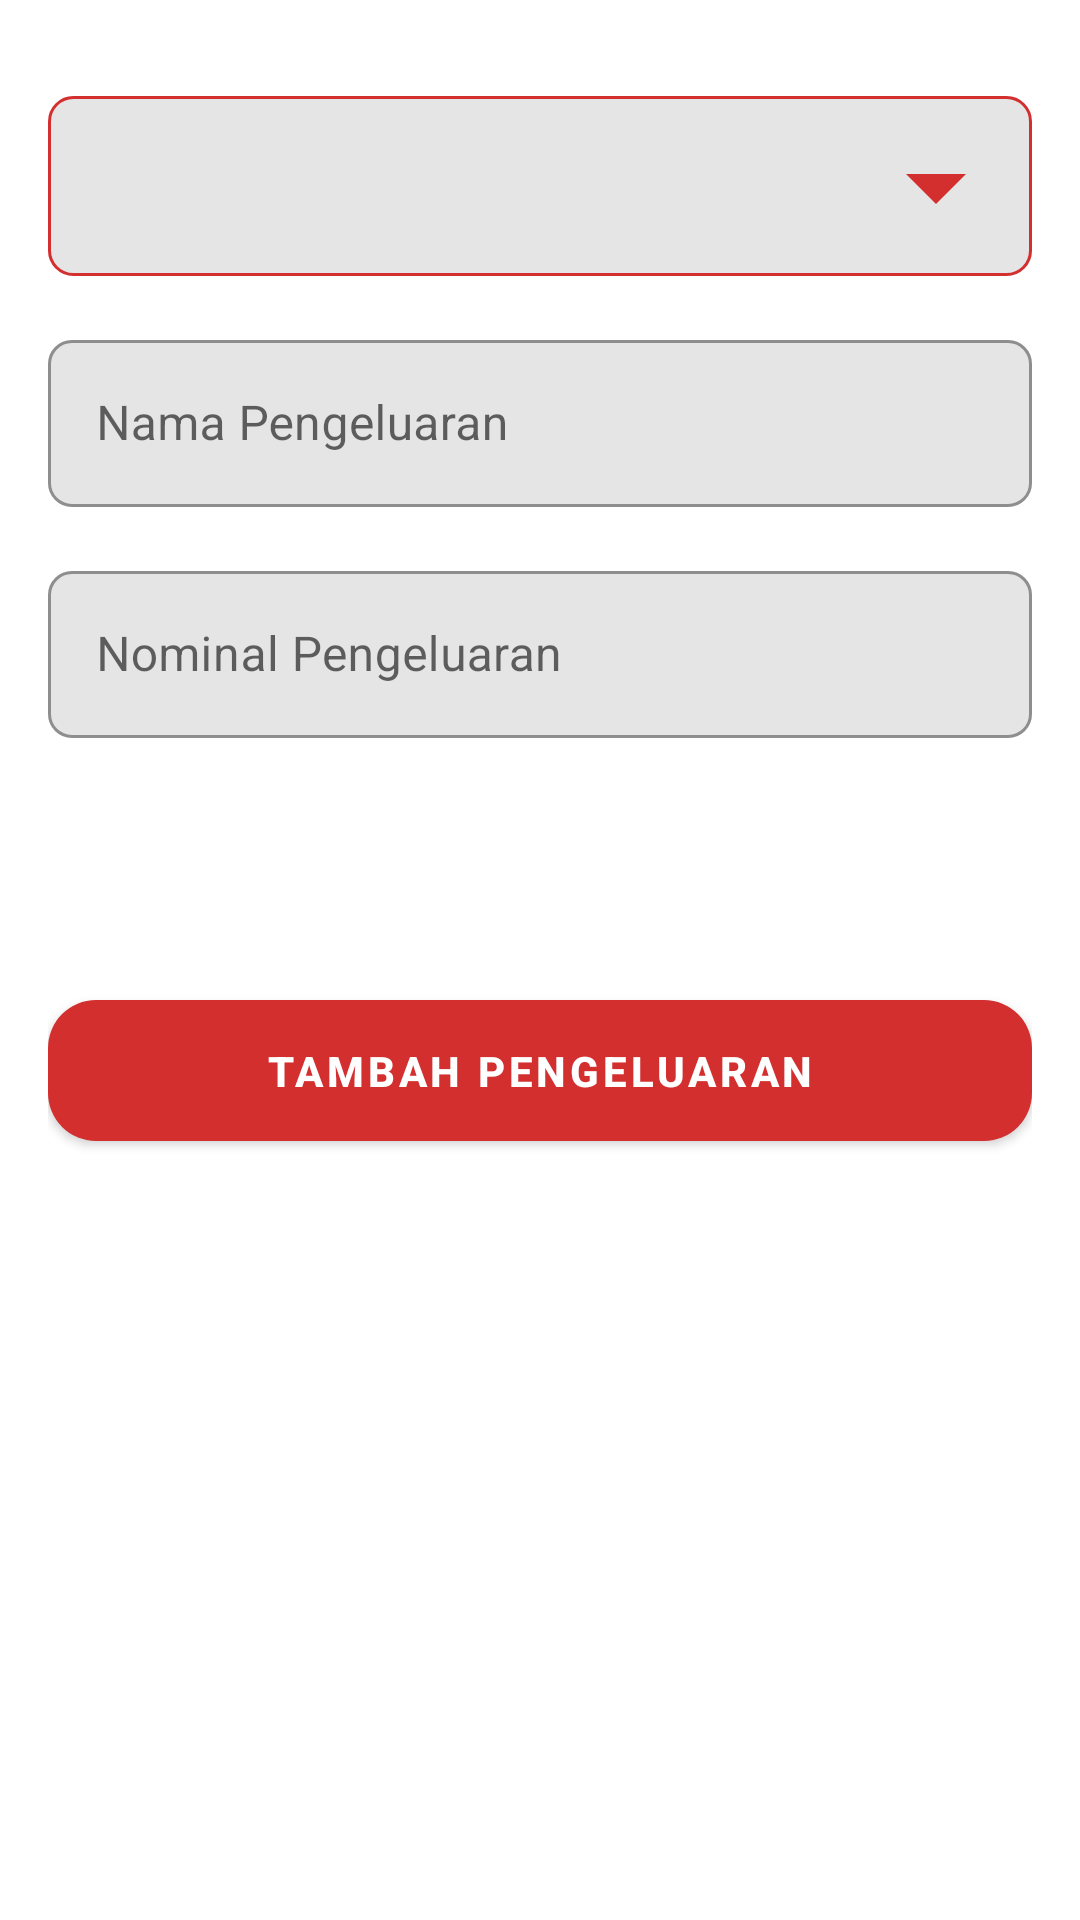

Where to tap for icons on this 1080x1920 app screen, as (x,y):
arrow drop down: (936,189)
